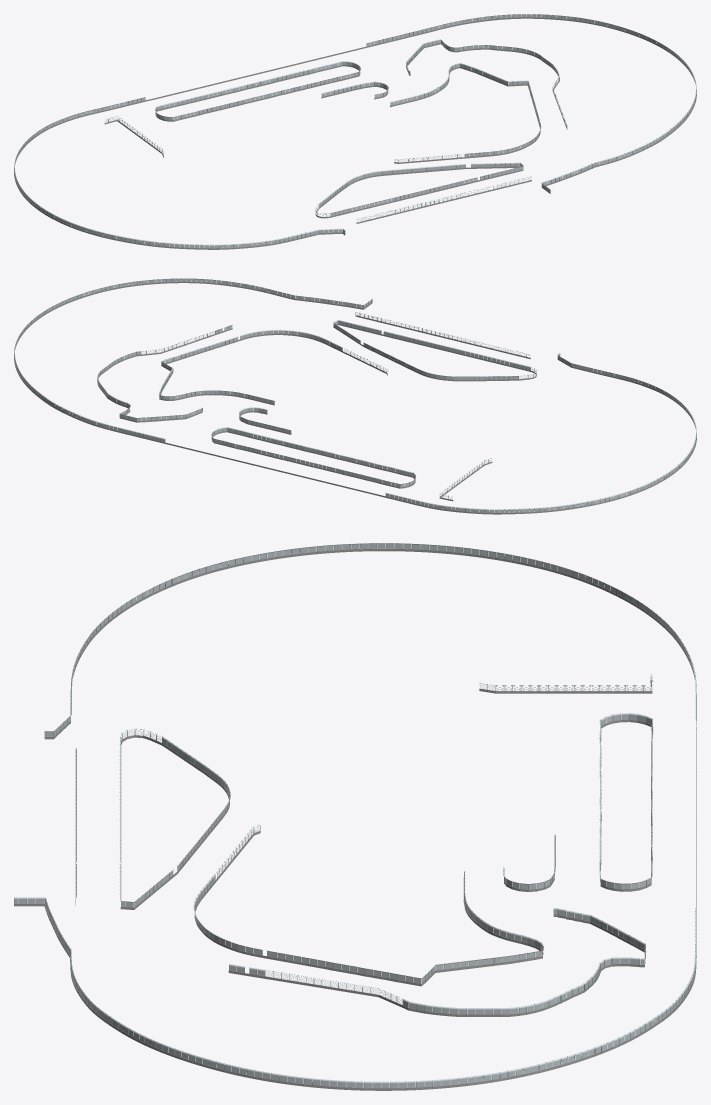
Rendered from oval_mod_walls.FBX.
3 views of the same model, one above another, from view 1: azimuth 30°, elevation 25°; view 2: azimuth 150°, elevation 25°; view 3: azimuth 270°, elevation 25° (orthographic). The views are drawn at different scales.
Visible parts, largest first — view 1: fence_end_019, fence_end_002, wall_end_019, wall_end_002, fence_001, wall_fence_010, wall_fence_075, wall_a_038, wall_fence_130, wall_a_158, wall_a_019, wall_d_010 (+4 smaller); view 2: fence_end_019, fence_end_002, wall_end_019, wall_end_002, wall_fence_075, wall_fence_130, wall_fence_059, fence_001, wall_fence_010, wall_a_038, wall_a_019, wall_a_158 (+5 smaller); view 3: fence_end_002, fence_end_019, wall_end_002, wall_end_019, wall_fence_128, wall_fence_059, wall_a_115, fence_001, wall_a_189, wall_d_059, wall_d_128.
Part boxes in pixels (x1,y1,x2,y2): fence_end_019: [14, 104, 345, 248]; fence_end_002: [396, 14, 696, 165]; wall_end_019: [14, 106, 345, 249]; wall_end_002: [396, 14, 696, 166]; fence_001: [319, 162, 520, 207]; wall_fence_010: [161, 61, 342, 108]; wall_fence_075: [331, 166, 522, 216]; wall_a_038: [356, 176, 531, 223]; wall_fence_130: [173, 73, 354, 120]; wall_a_158: [319, 163, 520, 208]; wall_a_019: [331, 167, 523, 217]; wall_d_010: [161, 62, 342, 110]; fence_end_019: [416, 353, 696, 512]; fence_end_002: [14, 278, 294, 434]; wall_end_019: [415, 356, 696, 514]; wall_end_002: [14, 278, 294, 436]; wall_fence_075: [338, 320, 530, 370]; wall_fence_130: [231, 428, 412, 475]; wall_fence_059: [161, 330, 342, 363]; fence_001: [333, 323, 518, 379]; wall_fence_010: [214, 439, 395, 485]; wall_a_038: [355, 312, 530, 359]; wall_a_019: [338, 320, 530, 371]; wall_a_158: [333, 322, 518, 381]; fence_end_002: [70, 933, 696, 1088]; fence_end_019: [45, 543, 696, 736]; wall_end_002: [70, 936, 696, 1090]; wall_end_019: [44, 543, 696, 739]; wall_fence_128: [403, 957, 644, 1014]; wall_fence_059: [193, 874, 420, 983]; wall_a_115: [479, 674, 653, 693]; fence_001: [134, 737, 230, 907]; wall_a_189: [228, 964, 403, 1007]; wall_d_059: [194, 877, 420, 986]; wall_d_128: [403, 957, 644, 1016].
Size of the model in its own units: 23139 by 364 by 12371.
